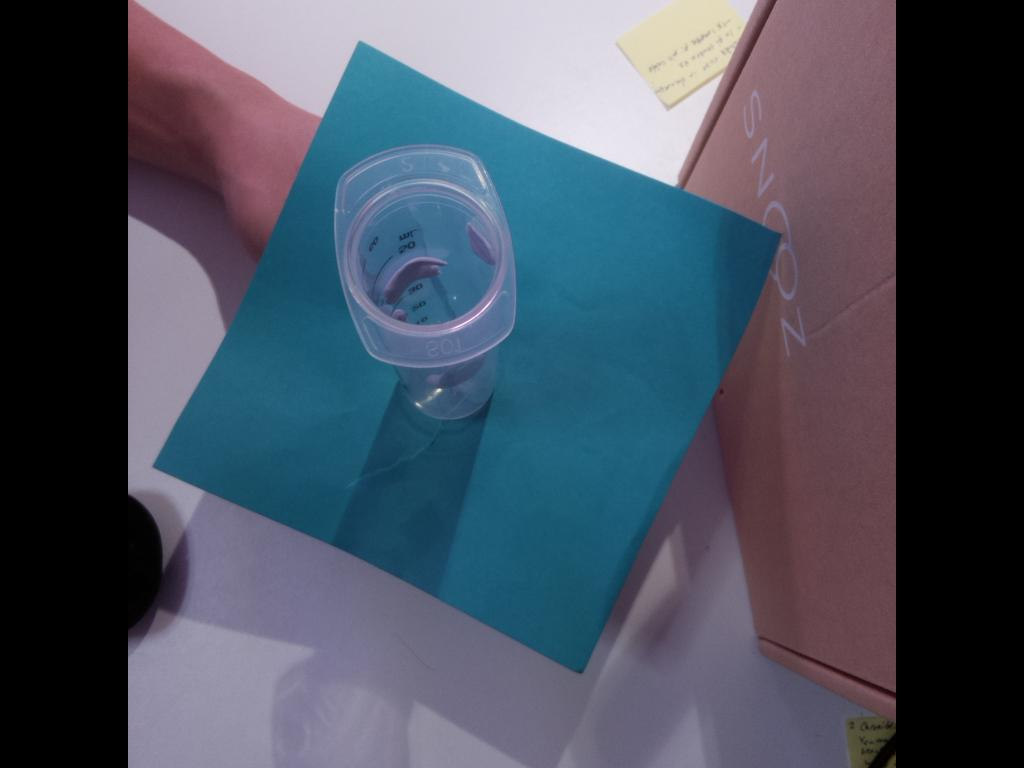dirty: (332, 142, 517, 366)
